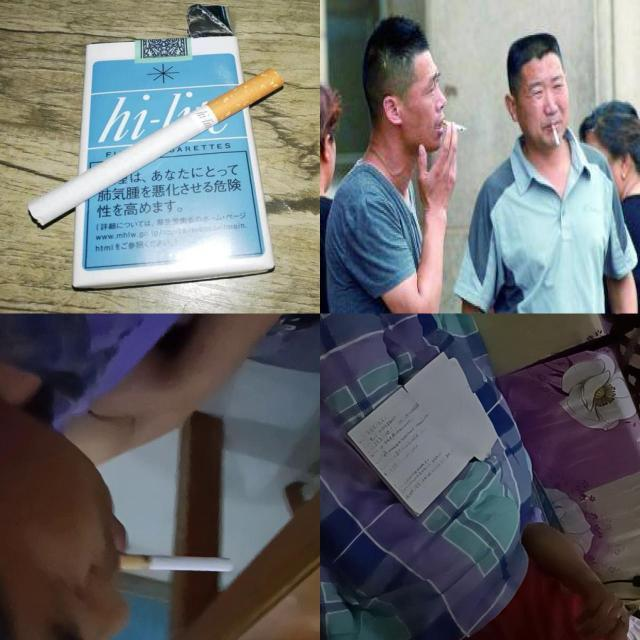smoking: (28, 68, 284, 226), (118, 554, 232, 572), (616, 606, 638, 626), (440, 119, 466, 132), (550, 120, 560, 148)
